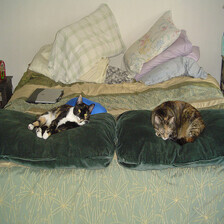laptop: (25, 82, 66, 112)
